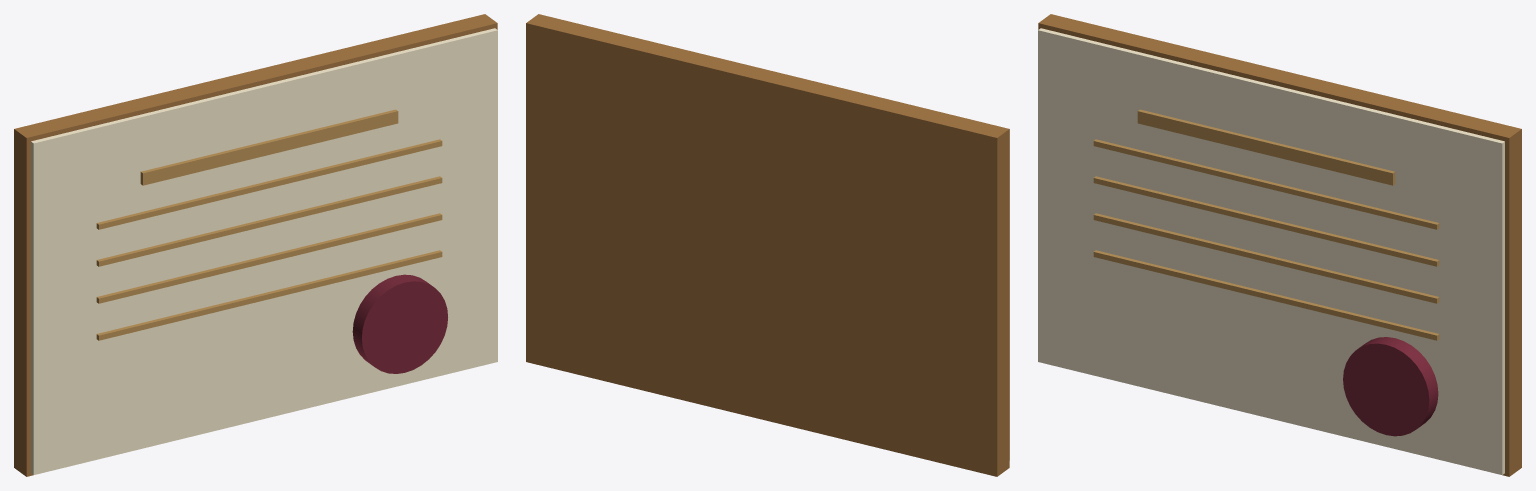
The model's file is certificate.glb.
3 renders of one model, left to right at view 1: azimuth 30°, elevation 25°; view 2: azimuth 150°, elevation 25°; view 3: azimuth 330°, elevation 25°, orthographic.
Parts seen in each view (by area): view 1: sheet-face, sheet-corrugation, seal, text-0, text-3, text-2, text-4, text-1; view 2: sheet-corrugation; view 3: sheet-face, sheet-corrugation, seal, text-0, text-3, text-2, text-4, text-1.
Boxes of the visible parts, bbox=[...] form: sheet-face: bbox=[31, 28, 497, 474]; sheet-corrugation: bbox=[14, 14, 497, 476]; seal: bbox=[352, 274, 447, 373]; text-0: bbox=[140, 109, 398, 185]; text-3: bbox=[96, 213, 442, 303]; text-2: bbox=[96, 176, 442, 266]; text-4: bbox=[96, 250, 442, 340]; text-1: bbox=[96, 139, 442, 229]; sheet-corrugation: bbox=[526, 14, 1009, 476]; sheet-face: bbox=[1038, 28, 1504, 474]; sheet-corrugation: bbox=[1038, 14, 1521, 476]; seal: bbox=[1343, 337, 1438, 436]; text-0: bbox=[1137, 109, 1395, 185]; text-3: bbox=[1093, 213, 1439, 303]; text-2: bbox=[1093, 176, 1439, 266]; text-4: bbox=[1093, 250, 1439, 340]; text-1: bbox=[1093, 139, 1439, 229].
Size of the model in its own units: 2.4 by 1.65 by 0.245.
